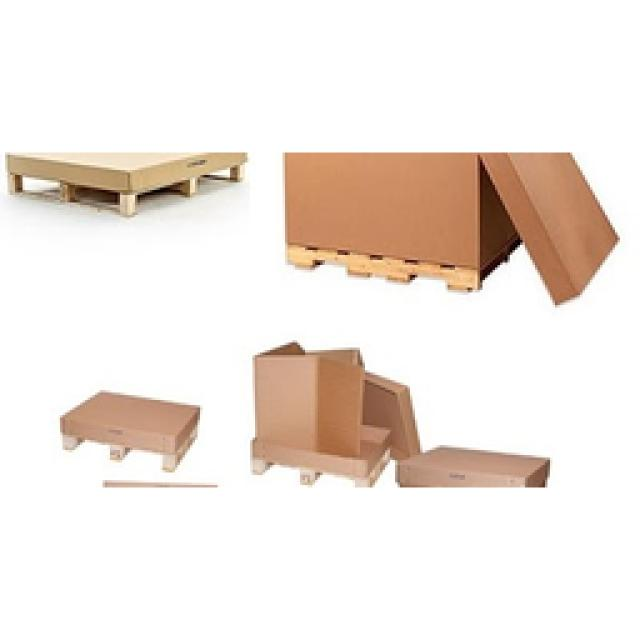cardboard: (285, 152, 615, 307), (252, 342, 545, 485), (60, 390, 198, 453)
